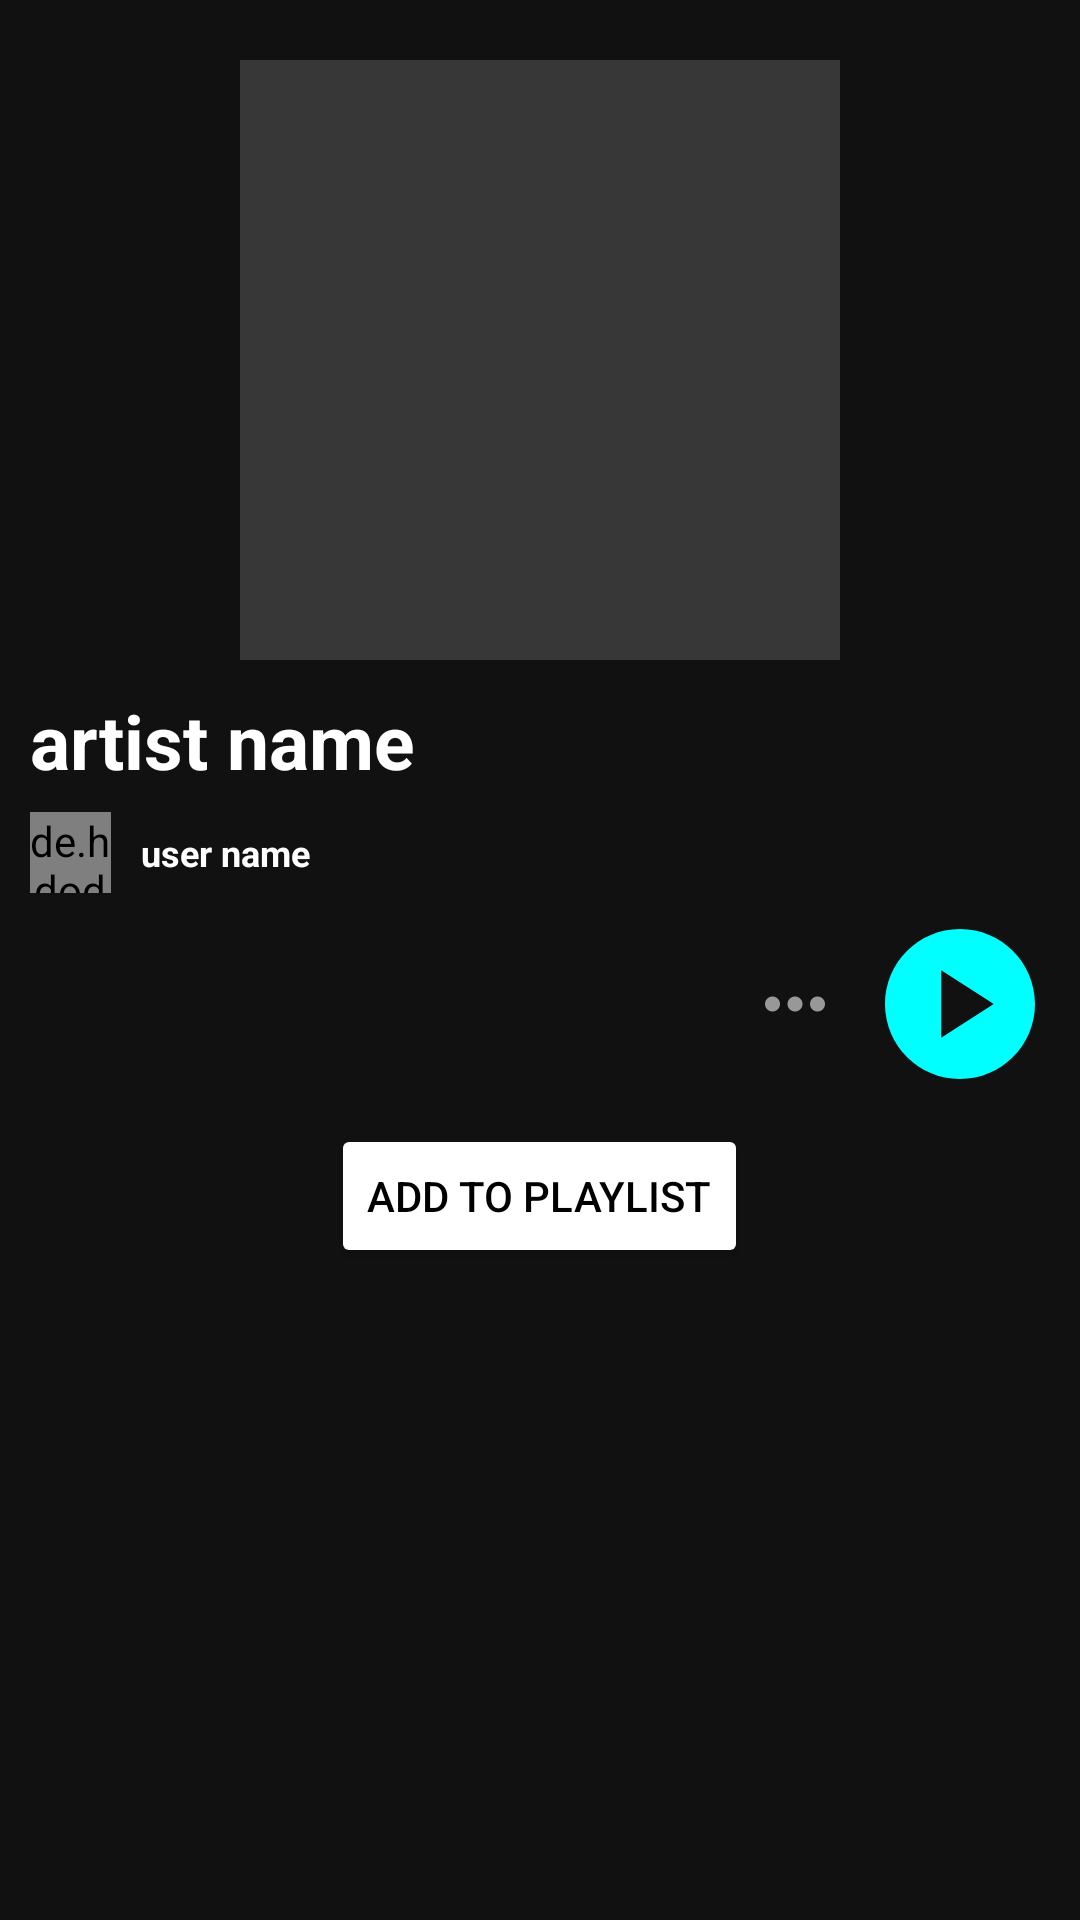

Locate icon controls on the screen. Image size 1080×1920, boxes as bbox=[x1, y1, x2, y2].
more: bbox=[765, 996, 825, 1012]
